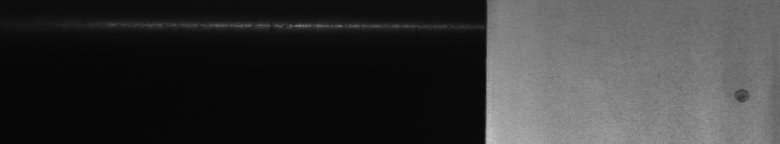fi: (728, 80, 756, 111)
